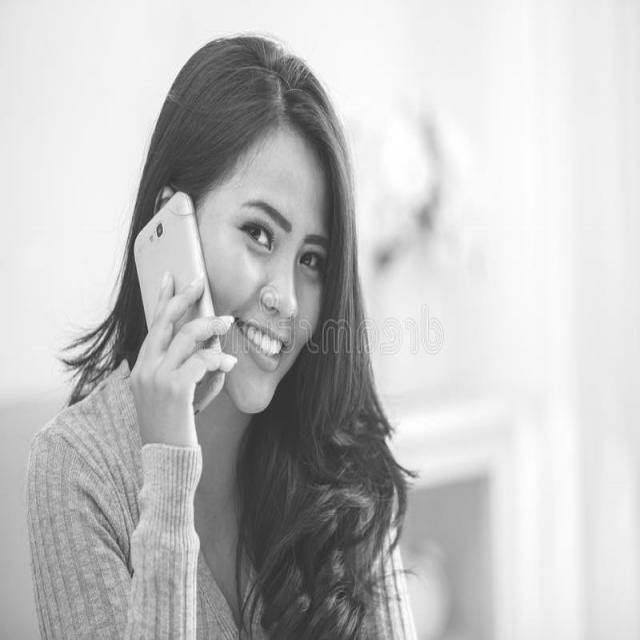phone: (123, 161, 281, 431)
